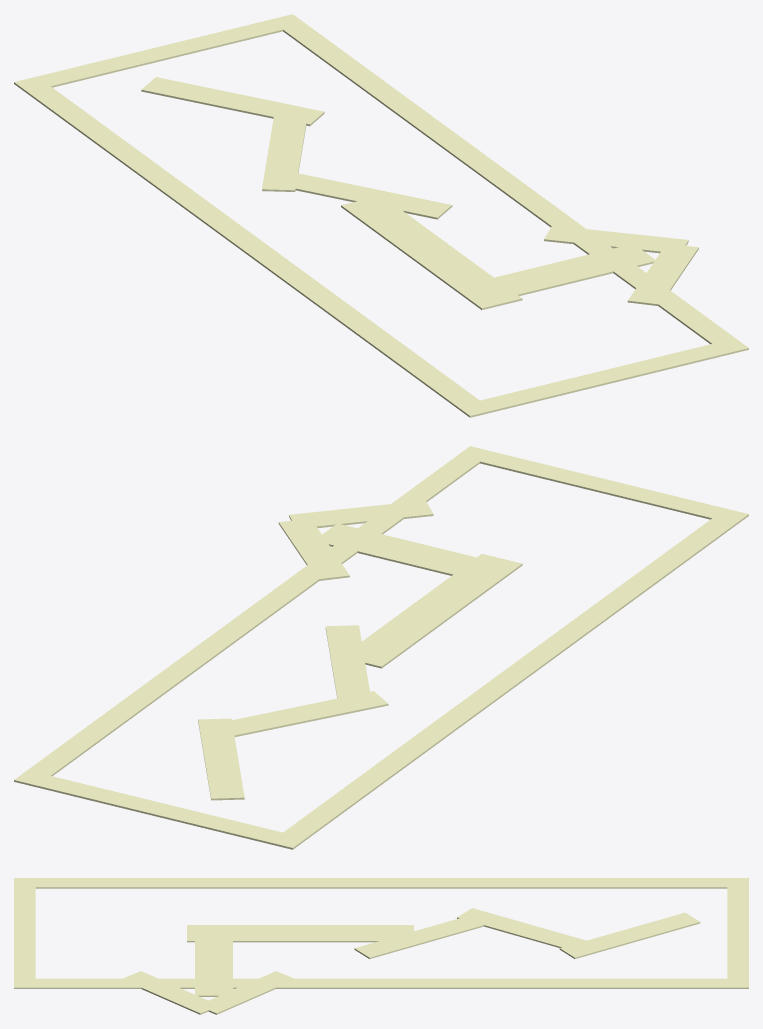
Rendered from marking_separator_arrow_right_white.glb.
The picture shows the model from 3 angles, top to bottom: view 1: azimuth 30°, elevation 25°; view 2: azimuth 150°, elevation 25°; view 3: azimuth 270°, elevation 25°; orthographic projection. The views are drawn at different scales.
Parts seen in each view (by area): view 1: separator_arrow_right_left, separator_arrow_right_right, separator_arrow_right_arrow_shaft, separator_arrow_right_bottom, separator_arrow_right_top, separator_arrow_right_arrow_arm, separator_arrow_right_diag_0, separator_arrow_right_diag_2, separator_arrow_right_diag_1, separator_arrow_right_arrow_head_upper, separator_arrow_right_arrow_head_lower; view 2: separator_arrow_right_left, separator_arrow_right_right, separator_arrow_right_arrow_shaft, separator_arrow_right_top, separator_arrow_right_arrow_arm, separator_arrow_right_bottom, separator_arrow_right_diag_1, separator_arrow_right_diag_2, separator_arrow_right_diag_0, separator_arrow_right_arrow_head_upper, separator_arrow_right_arrow_head_lower; view 3: separator_arrow_right_left, separator_arrow_right_right, separator_arrow_right_arrow_shaft, separator_arrow_right_top, separator_arrow_right_bottom, separator_arrow_right_diag_2, separator_arrow_right_arrow_arm, separator_arrow_right_diag_1, separator_arrow_right_diag_0, separator_arrow_right_arrow_head_upper, separator_arrow_right_arrow_head_lower.
Boxes of the visible parts, x1,y1,x2,y2 form: separator_arrow_right_left: [27, 86, 479, 407]; separator_arrow_right_right: [283, 24, 735, 344]; separator_arrow_right_arrow_shaft: [341, 201, 522, 309]; separator_arrow_right_bottom: [456, 338, 748, 417]; separator_arrow_right_top: [14, 14, 305, 93]; separator_arrow_right_arrow_arm: [453, 243, 655, 305]; separator_arrow_right_diag_0: [141, 77, 324, 126]; separator_arrow_right_diag_2: [272, 170, 452, 219]; separator_arrow_right_diag_1: [262, 110, 307, 191]; separator_arrow_right_arrow_head_upper: [627, 243, 698, 305]; separator_arrow_right_arrow_head_lower: [544, 225, 688, 253]; separator_arrow_right_left: [283, 518, 735, 839]; separator_arrow_right_right: [27, 456, 479, 776]; separator_arrow_right_arrow_shaft: [342, 554, 522, 668]; separator_arrow_right_top: [14, 770, 306, 849]; separator_arrow_right_arrow_arm: [314, 523, 517, 584]; separator_arrow_right_bottom: [457, 446, 748, 525]; separator_arrow_right_diag_1: [205, 691, 388, 738]; separator_arrow_right_diag_2: [325, 625, 371, 704]; separator_arrow_right_diag_0: [198, 718, 244, 800]; separator_arrow_right_arrow_head_upper: [289, 500, 433, 528]; separator_arrow_right_arrow_head_lower: [278, 519, 349, 580]; separator_arrow_right_left: [35, 878, 727, 888]; separator_arrow_right_right: [35, 978, 727, 988]; separator_arrow_right_arrow_shaft: [187, 925, 413, 942]; separator_arrow_right_top: [727, 878, 748, 988]; separator_arrow_right_bottom: [14, 878, 35, 988]; separator_arrow_right_diag_2: [354, 913, 494, 958]; separator_arrow_right_arrow_arm: [195, 925, 232, 996]; separator_arrow_right_diag_1: [457, 908, 597, 952]; separator_arrow_right_diag_0: [559, 912, 700, 958]; separator_arrow_right_arrow_head_upper: [122, 971, 218, 1014]; separator_arrow_right_arrow_head_lower: [204, 971, 294, 1014].
Bounding box in the file's own units: 1.19 × 0.006 × 2.72.
